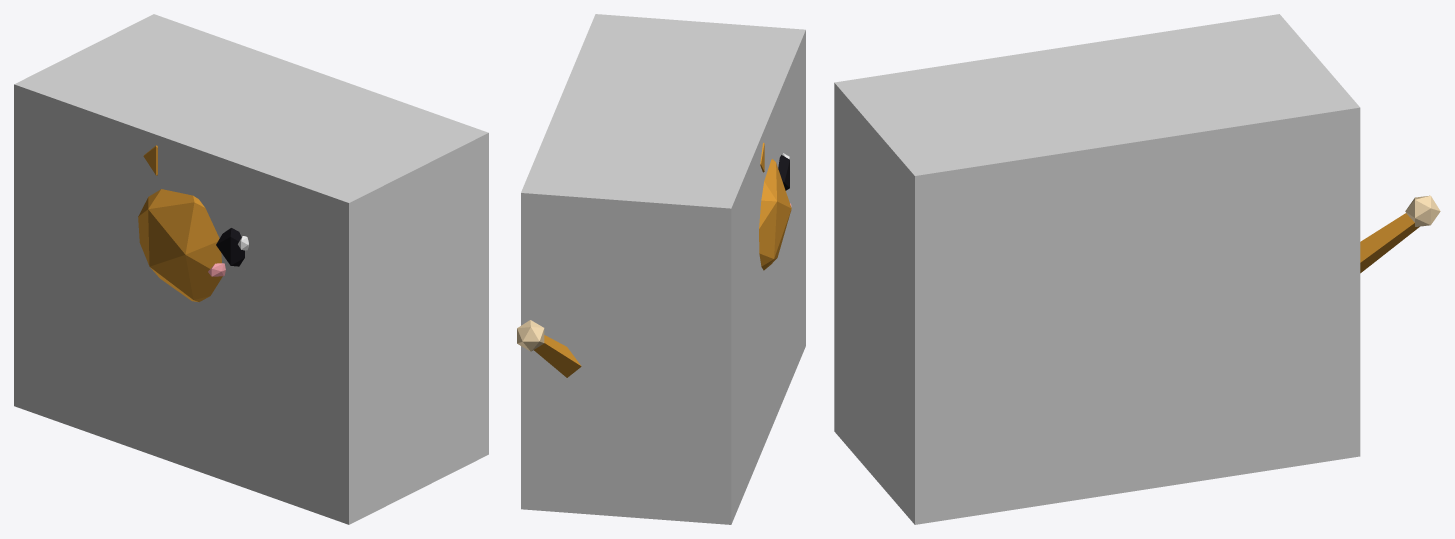
The model's file is jungle_pet2.fbx.
3 renders of one model, left to right at view 1: azimuth 30°, elevation 25°; view 2: azimuth 150°, elevation 25°; view 3: azimuth 270°, elevation 25°, orthographic. The views are drawn at different scales.
Parts seen in each view (by area): view 1: Root__0.00_0.47_0.14__0.58_0.95_1.17, Head__Body__0.00_0.47_-0.09; view 2: Root__0.00_0.47_0.14__0.58_0.95_1.17, Head__Body__0.00_0.47_-0.09, Tail__Body__0.00_0.38_0.38; view 3: Root__0.00_0.47_0.14__0.58_0.95_1.17, Tail__Body__0.00_0.38_0.38.
Part boxes in pixels (x1,y1,x2,y2): Root__0.00_0.47_0.14__0.58_0.95_1.17: [14, 14, 488, 524]; Head__Body__0.00_0.47_-0.09: [138, 145, 248, 302]; Root__0.00_0.47_0.14__0.58_0.95_1.17: [521, 14, 805, 524]; Head__Body__0.00_0.47_-0.09: [759, 142, 791, 270]; Tail__Body__0.00_0.38_0.38: [517, 320, 581, 377]; Root__0.00_0.47_0.14__0.58_0.95_1.17: [834, 14, 1360, 524]; Tail__Body__0.00_0.38_0.38: [1360, 195, 1440, 273].
Size of the model in its own units: 26.5 by 26.78 by 41.9.
1 material, 1 textured.
